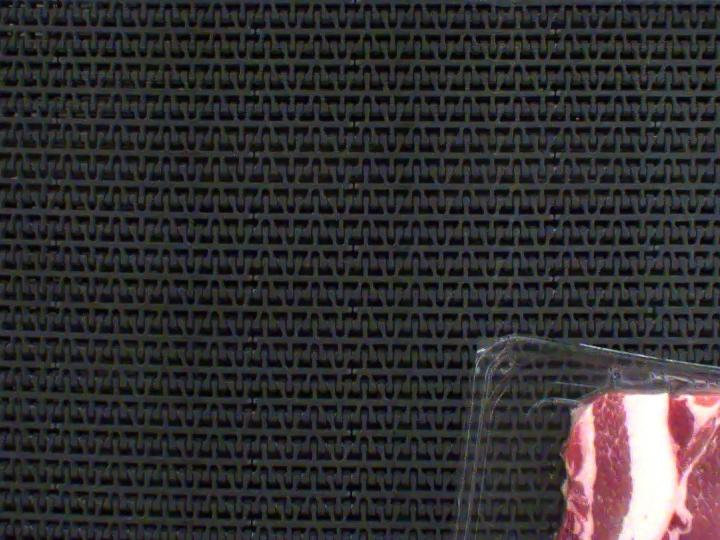packaging-error: (590, 352, 720, 435)
